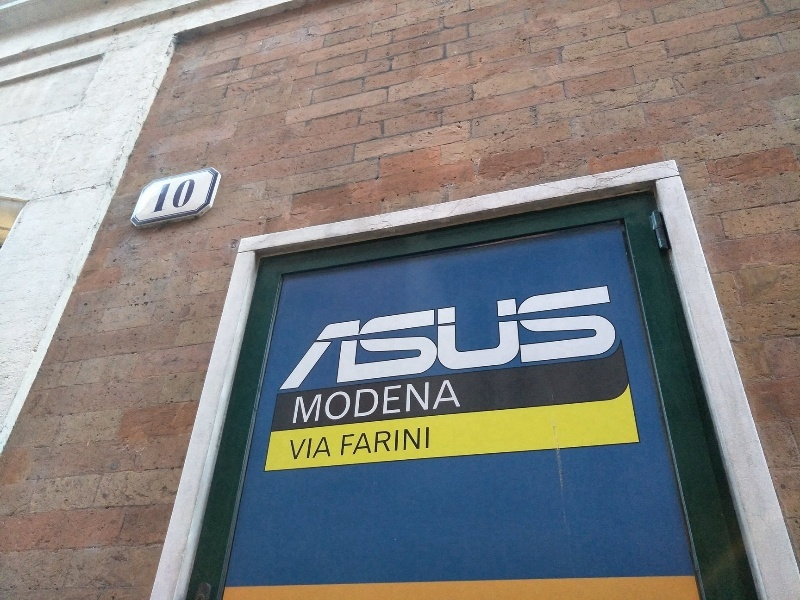text: (337, 287, 352, 392), (353, 287, 368, 392), (369, 287, 384, 392), (385, 287, 400, 392), (401, 287, 416, 392), (417, 287, 432, 392), (433, 287, 448, 392), (449, 287, 464, 392), (465, 287, 480, 392), (481, 287, 496, 392), (497, 287, 512, 392), (513, 287, 528, 392), (529, 287, 544, 392), (545, 287, 560, 392), (561, 287, 576, 392), (577, 287, 592, 392), (593, 287, 608, 392), (609, 287, 620, 392), (327, 287, 336, 392), (305, 380, 320, 424), (321, 380, 336, 424), (337, 380, 352, 424), (353, 380, 368, 424), (369, 380, 384, 424), (385, 380, 400, 424), (401, 380, 416, 424), (417, 380, 432, 424), (433, 380, 448, 424), (449, 380, 461, 424), (177, 179, 192, 213), (163, 179, 176, 213), (353, 427, 368, 456), (369, 427, 384, 456), (385, 427, 400, 456), (401, 427, 416, 456), (417, 427, 429, 456), (305, 437, 320, 460), (290, 437, 304, 460), (297, 380, 304, 424), (343, 427, 352, 456), (321, 437, 332, 460), (193, 179, 197, 213)
